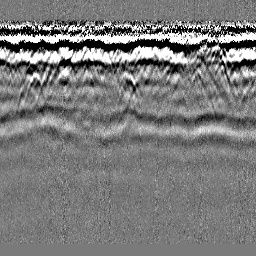cavity: (118, 71, 136, 99)
